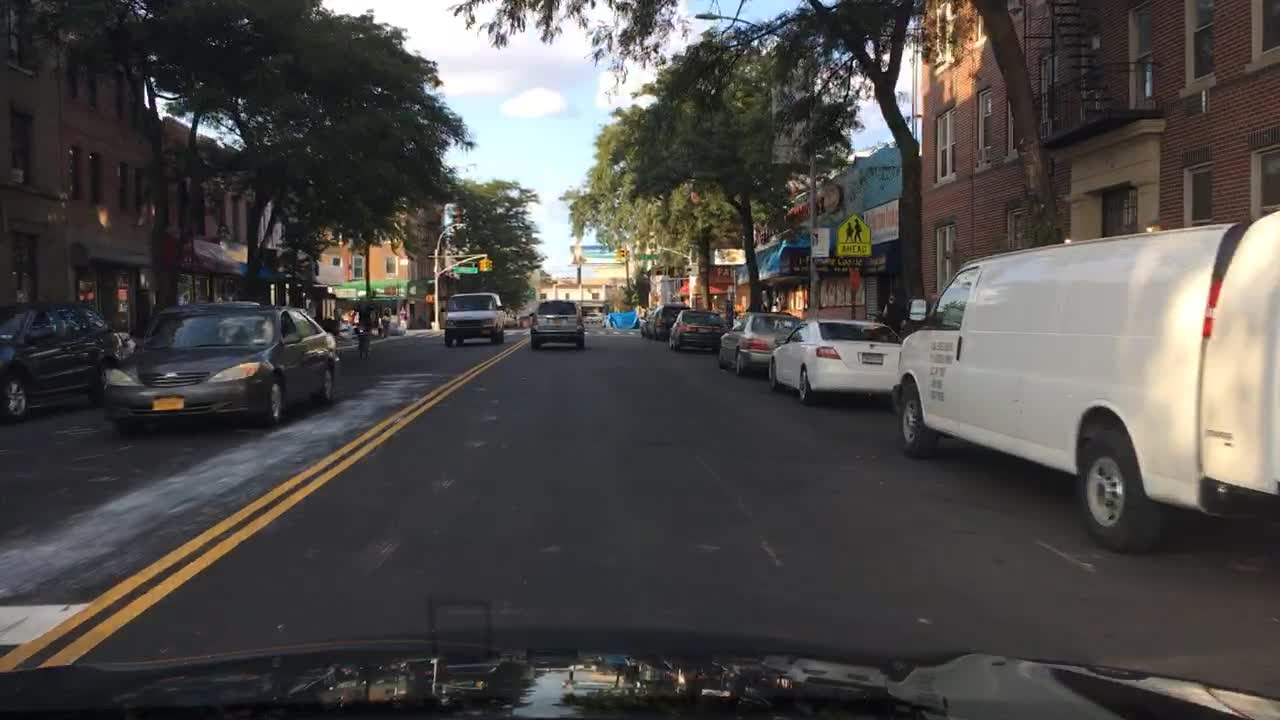car: (895, 210, 1278, 554), (98, 301, 334, 432), (0, 299, 138, 422), (767, 314, 900, 405), (714, 310, 801, 375), (439, 293, 507, 346), (529, 299, 586, 349), (666, 308, 723, 353), (648, 303, 691, 341), (385, 315, 410, 331), (640, 310, 651, 335), (585, 310, 602, 324), (601, 314, 612, 327)
person: (355, 318, 369, 359), (381, 307, 390, 335)
traffic light: (424, 293, 435, 305), (612, 248, 620, 262), (620, 245, 626, 263), (482, 257, 489, 272), (476, 255, 482, 272), (489, 257, 495, 273), (627, 248, 633, 262)
traffic sign: (834, 210, 873, 258), (640, 253, 661, 260), (452, 267, 476, 273)
